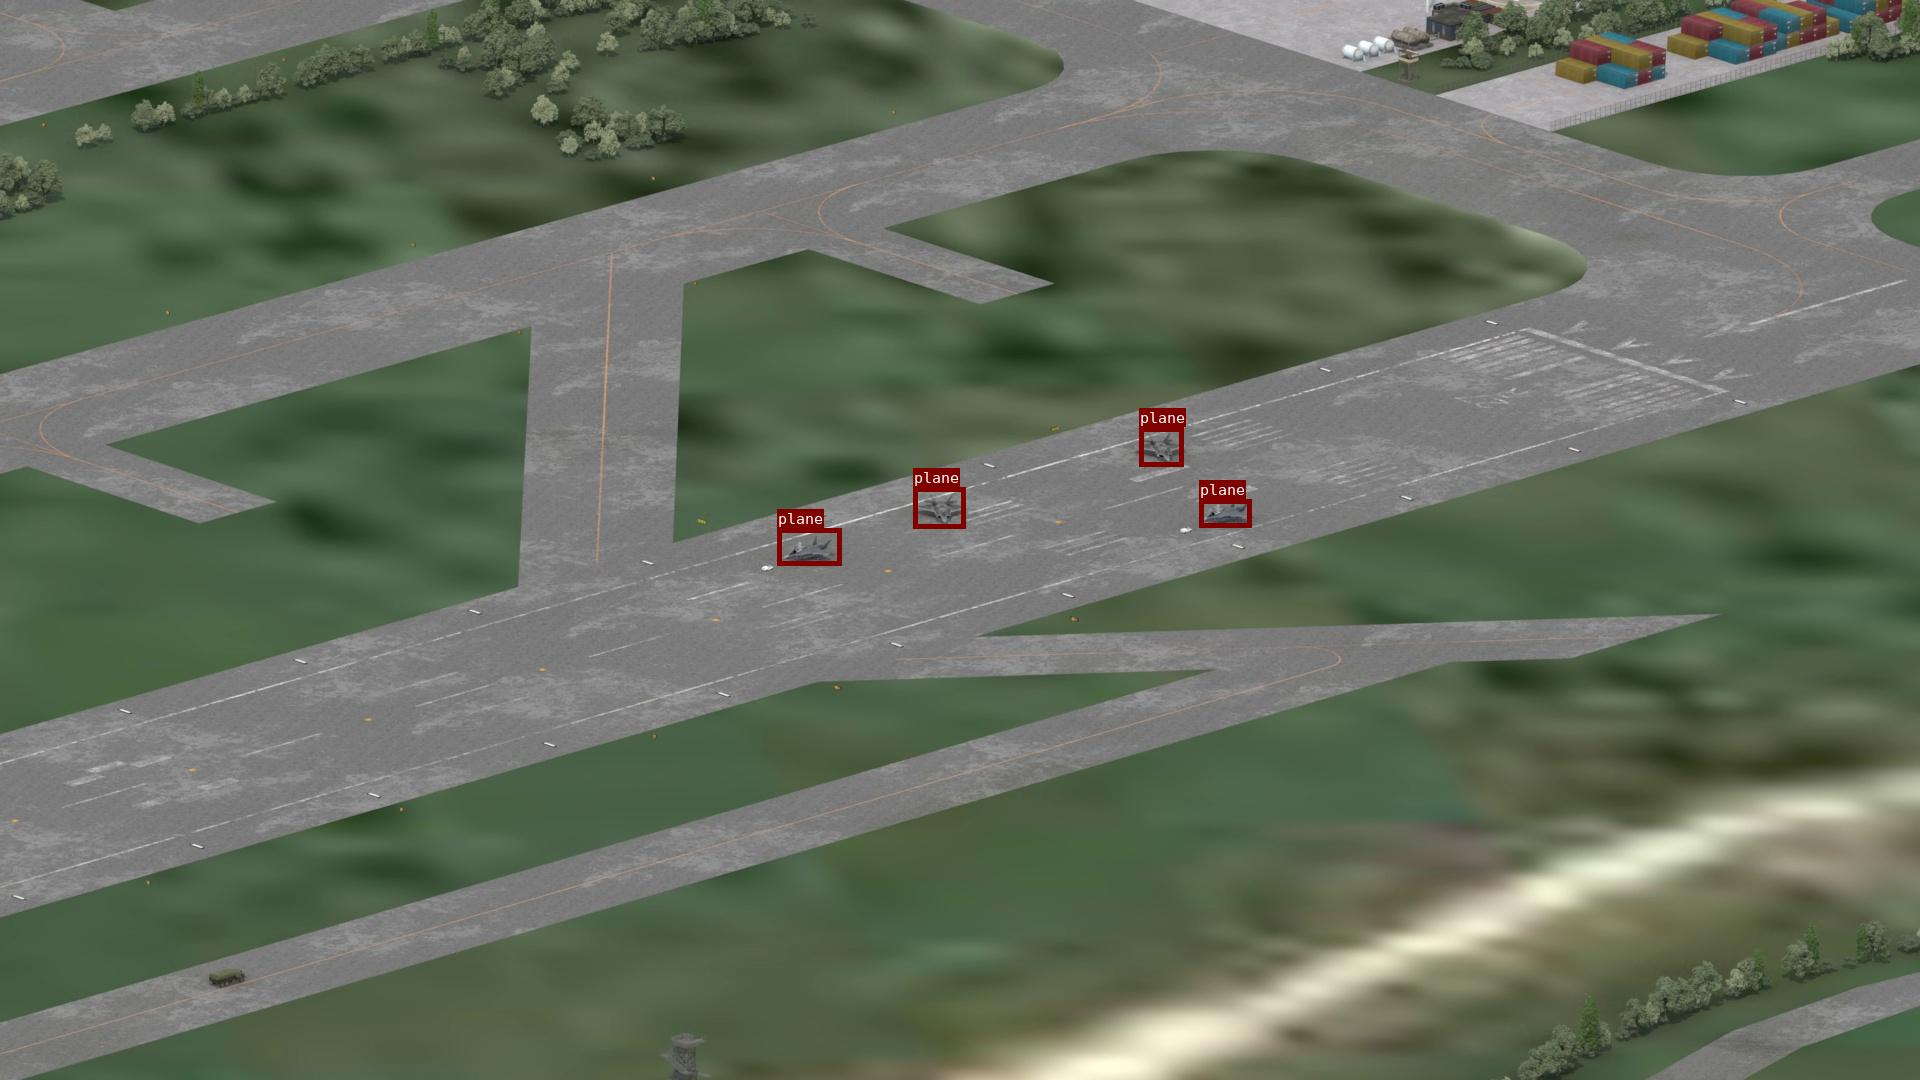plane: (777, 527, 841, 564), (913, 487, 965, 527), (1139, 427, 1183, 465), (1199, 498, 1251, 527)
